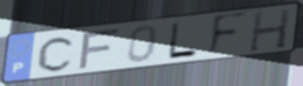0: (124, 24, 161, 65)
C: (35, 35, 78, 73)
F: (205, 10, 250, 60), (75, 26, 123, 72)
H: (247, 7, 293, 54)
L: (166, 21, 200, 60)
